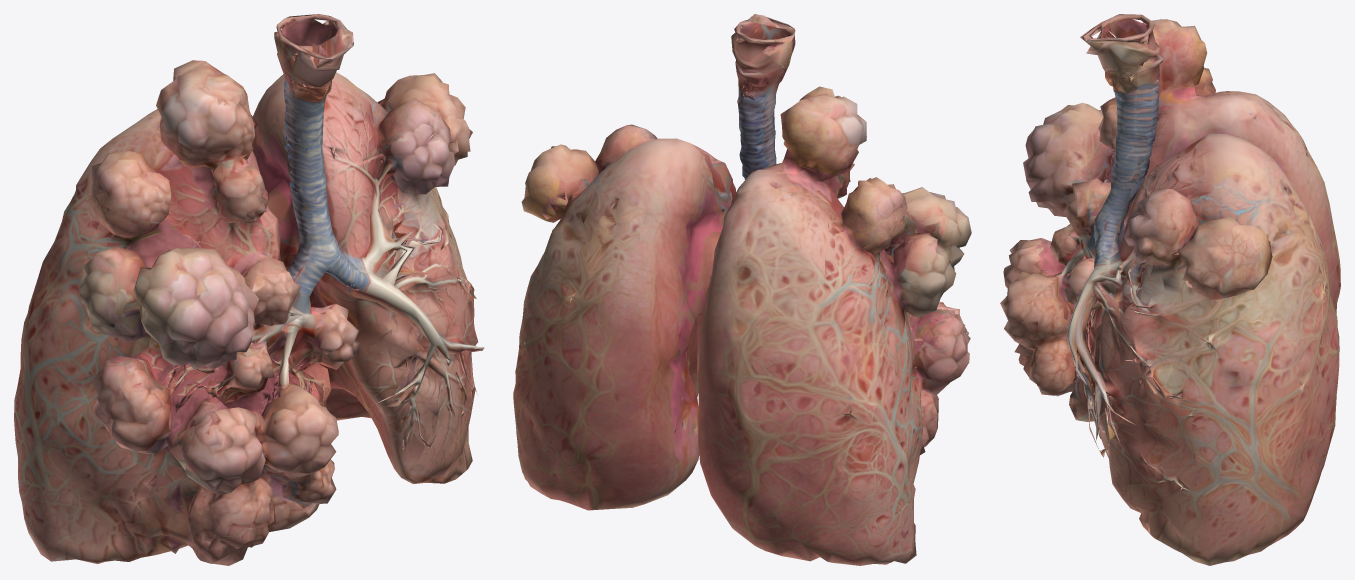
Rendered from Lung-cancer.glb.
The picture shows the model from 3 angles, left to right: view 1: azimuth 30°, elevation 25°; view 2: azimuth 150°, elevation 25°; view 3: azimuth 270°, elevation 25°; orthographic projection. The views are drawn at different scales.
Size of the model in its own units: 1.74 by 2 by 1.35.
Materials: 1 (1 with a texture image).
